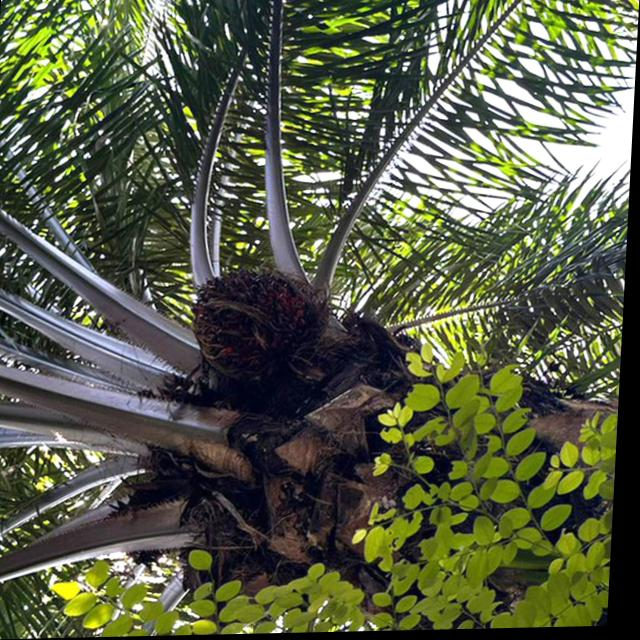ripe: (183, 269, 320, 383)
